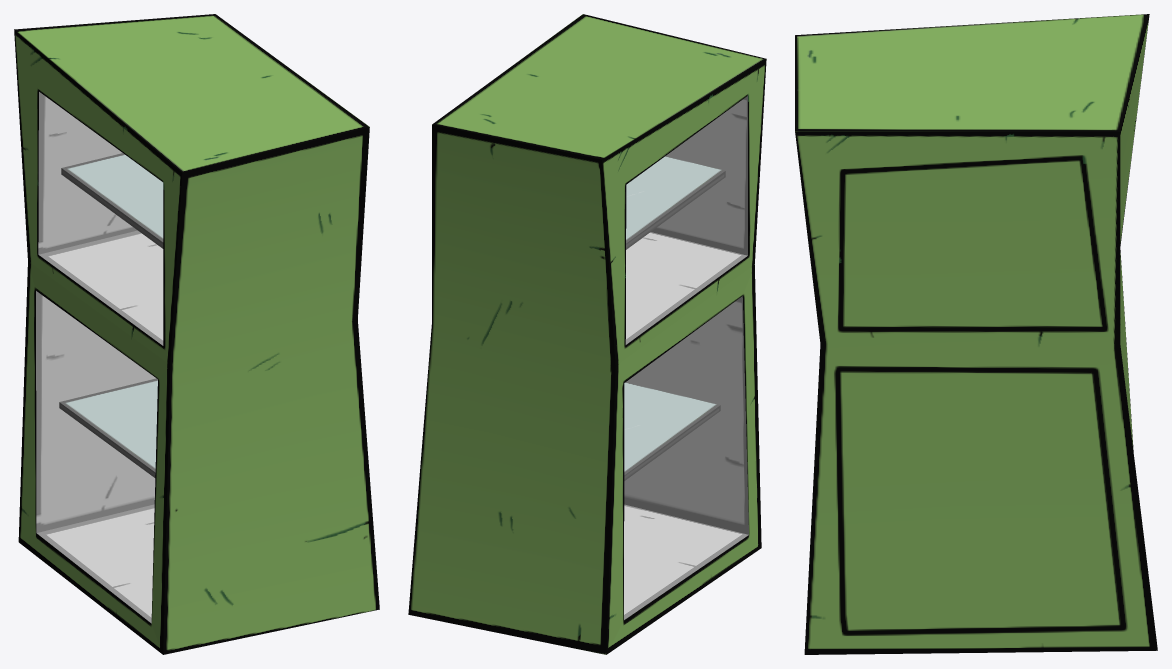
Rendered from fridge.FBX.
3 renders of one model, left to right at view 1: azimuth 30°, elevation 25°; view 2: azimuth 150°, elevation 25°; view 3: azimuth 270°, elevation 25°, orthographic. The views are drawn at different scales.
Visible parts, largest first — view 1: Box001; view 2: Box001; view 3: Box001.
Part boxes in pixels (x1=…): Box001: x1=14, y1=14, x2=379, y2=654; Box001: x1=408, y1=14, x2=766, y2=654; Box001: x1=795, y1=14, x2=1157, y2=654.
Size of the model in its own units: 76.15 by 177 by 109.
1 material, 1 textured.
